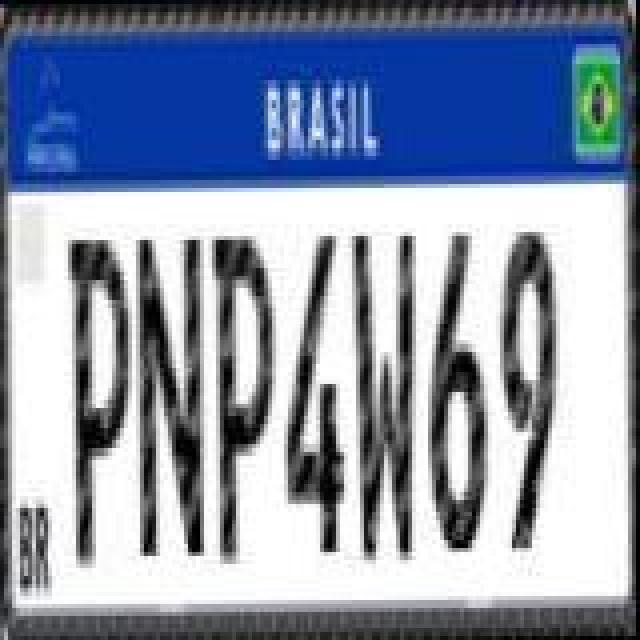4: (280, 228, 348, 556)
6: (422, 222, 494, 554)
9: (498, 218, 562, 550)
N: (136, 230, 212, 562)
P: (64, 228, 140, 572), (210, 234, 282, 566)
W: (346, 230, 418, 562)
